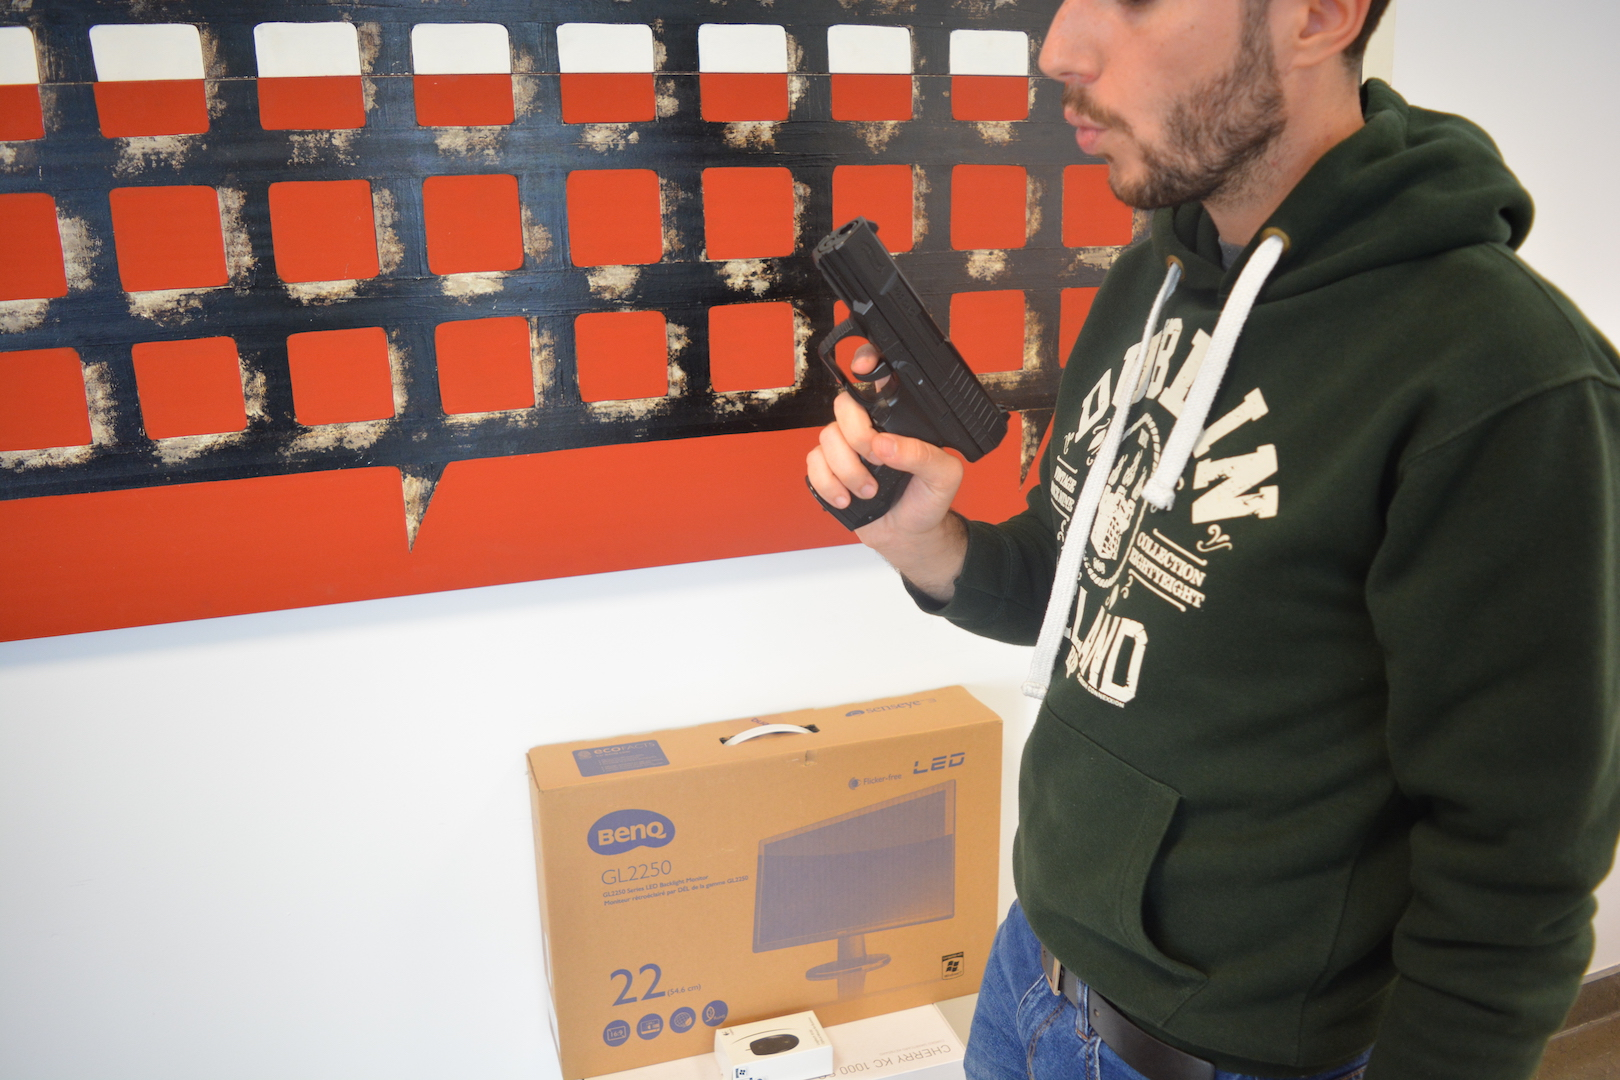pistol: (804, 216, 1012, 532)
